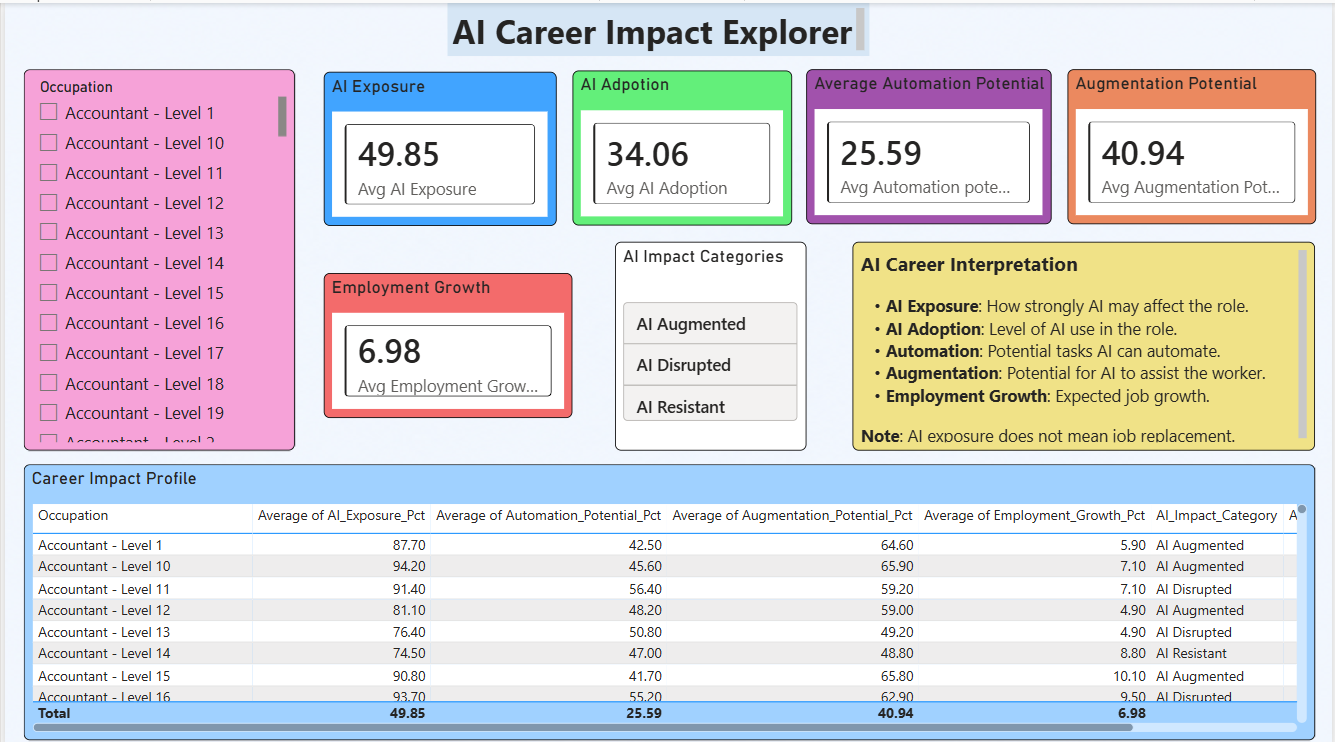

Layout of this report page (visuals, bound fields, positions):
{"tool":"powerbi","page":{"name":"Career Impact Explorer","canvas":[1280,720],"ordinal":1},"visuals":[{"type":"slicer","fields":{"Values":["AI_Impact_on_Jobs_Dataset.Occupation"]},"box":[18.1,63.9,261.8,368],"z":0},{"type":"cardVisual","title":"AI Exposure","fields":{"Data":["AI_Impact_on_Jobs_Dataset.Avg AI Exposure"]},"box":[307.8,66.7,224.4,148.9],"z":1000},{"type":"cardVisual","title":"AI Adpotion","fields":{"Data":["AI_Impact_on_Jobs_Dataset.Avg AI Adoption"]},"box":[547.8,65.6,211.8,149.5],"z":2000},{"type":"cardVisual","title":"Average Automation Potential","fields":{"Data":["AI_Impact_on_Jobs_Dataset.Avg Automation potential"]},"box":[773.3,64.4,236.7,149.5],"z":3000},{"type":"cardVisual","title":"Augmentation Potential","fields":{"Data":["AI_Impact_on_Jobs_Dataset.Avg Augmentation Potential"]},"box":[1025.2,64.1,240.3,149.5],"z":4000},{"type":"cardVisual","title":"Employment Growth","fields":{"Data":["AI_Impact_on_Jobs_Dataset.Avg Employment Growth"]},"box":[308,260,240,140],"z":5000},{"type":"cardVisual","title":"AI Impact Categories","fields":{"Rows":["AI_Impact_on_Jobs_Dataset.AI_Impact_Category"]},"box":[588.2,229.9,184.6,201.8],"z":6000},{"type":"tableEx","title":"Career Impact Profile","fields":{"Values":["AI_Impact_on_Jobs_Dataset.Occupation","Avg(AI_Impact_on_Jobs_Dataset.AI_Exposure_Pct)","Avg(AI_Impact_on_Jobs_Dataset.Automation_Potential_Pct)","Avg(AI_Impact_on_Jobs_Dataset.Augmentation_Potential_Pct)","Avg(AI_Impact_on_Jobs_Dataset.Employment_Growth_Pct)","AI_Impact_on_Jobs_Dataset.AI_Impact_Category","Avg(AI_Impact_on_Jobs_Dataset.Median_Salary_USD)"]},"box":[18.1,445.2,1246.3,266.6],"z":7000},{"type":"textbox","box":[817.5,230,446.7,201.7],"z":8000},{"type":"textbox","box":[427.3,0,407.6,51.5],"z":9000}]}

Visuals, with their boxes in screenshot pixels (x1, y1, x2, y2), scaled from the page's 1280x720 canvas onto the 1335x742 screenshot:
slicer - AI_Impact_on_Jobs_Dataset.Occupation: bbox(19, 66, 292, 445)
"AI Exposure" cardVisual: bbox(321, 69, 555, 222)
"AI Adpotion" cardVisual: bbox(571, 68, 792, 222)
"Average Automation Potential" cardVisual: bbox(807, 66, 1053, 220)
"Augmentation Potential" cardVisual: bbox(1069, 66, 1320, 220)
"Employment Growth" cardVisual: bbox(321, 268, 572, 412)
"AI Impact Categories" cardVisual: bbox(613, 237, 806, 445)
"Career Impact Profile" tableEx: bbox(19, 459, 1319, 734)
textbox: bbox(853, 237, 1319, 445)
textbox: bbox(446, 0, 871, 53)
